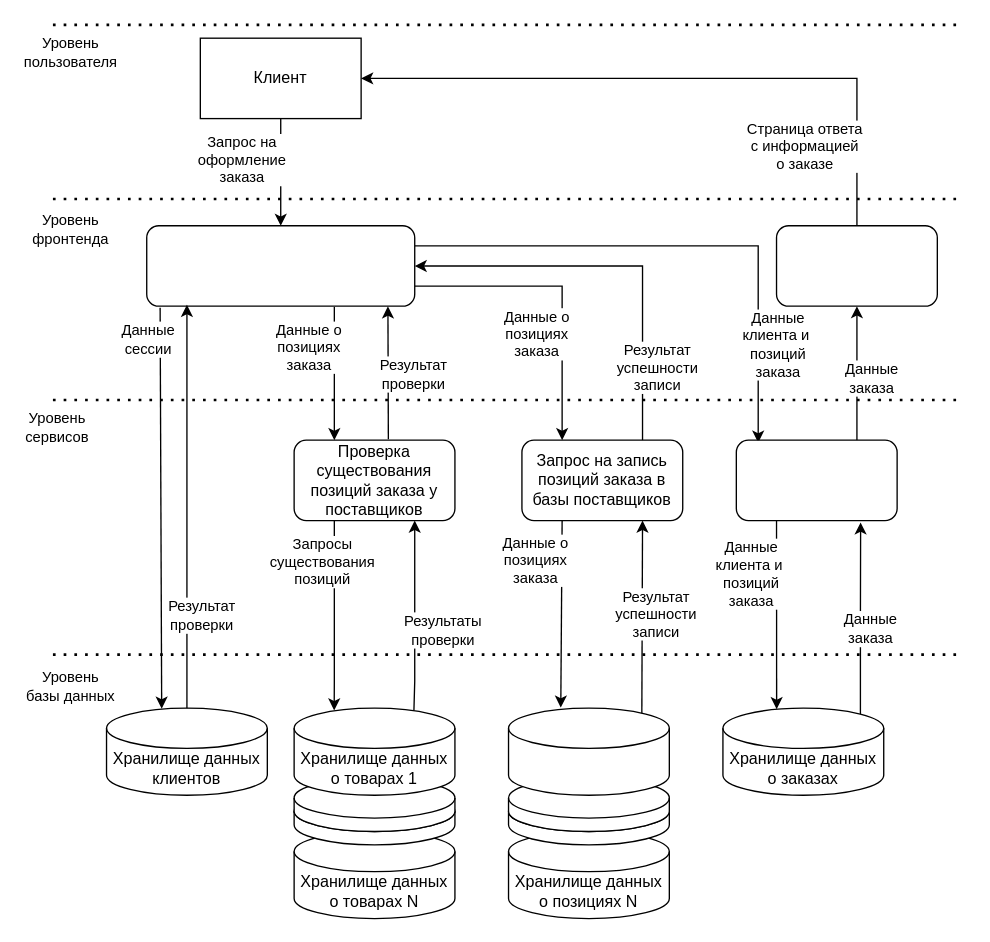
This 990x942 diagram has some shape labels left out. The box of each missing label's shape, as (x1, y1, x2, y2) in pixels:
Запрос на создание записи об оформлении заказа: (735, 439, 897, 521)
Проверка авторизации: (145, 224, 415, 306)
Формирование страницы ответа: (775, 224, 937, 306)
Хранилище данных о позициях 1: (507, 707, 669, 795)
